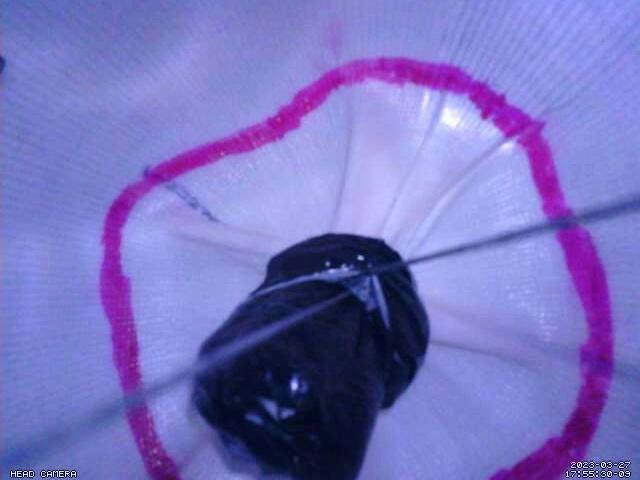red-circle: (97, 56, 616, 480)
